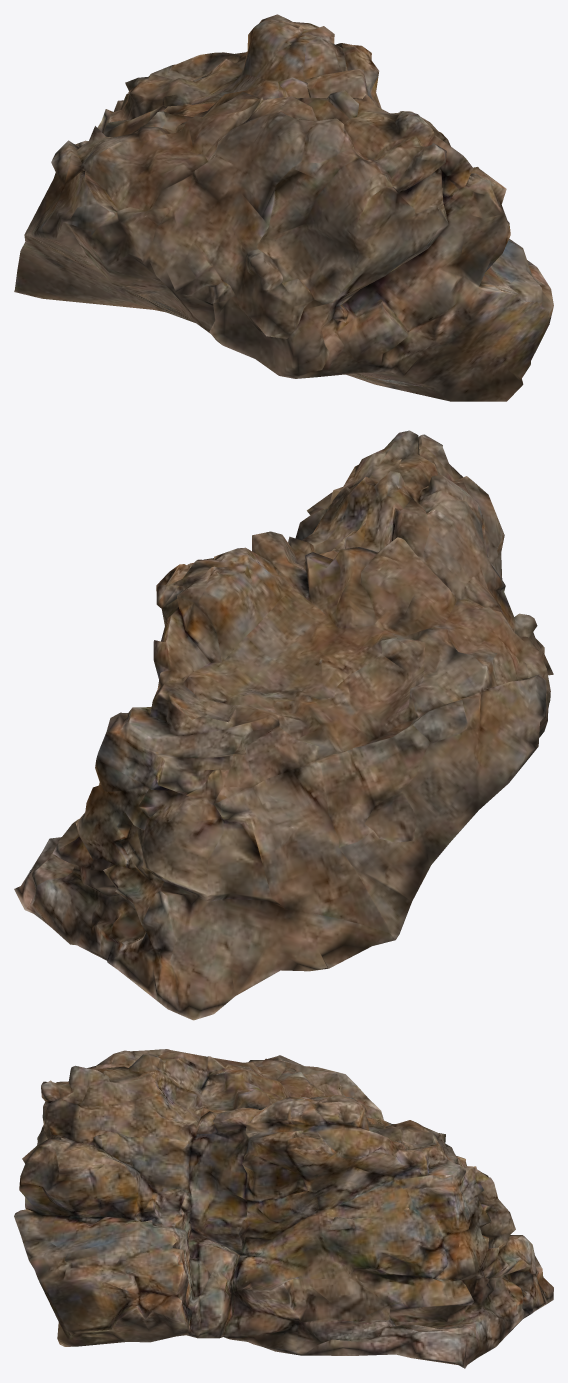
Rendered from boulder.glb.
3 views of the same model, one above another, from view 1: azimuth 30°, elevation 25°; view 2: azimuth 150°, elevation 25°; view 3: azimuth 270°, elevation 25° (orthographic). The views are drawn at different scales.
Parts seen in each view (by area): view 1: boulder_01; view 2: boulder_01; view 3: boulder_01.
Boxes of the visible parts, left/top/right/bottom form: boulder_01: left=14, top=14, right=553, bottom=401; boulder_01: left=14, top=430, right=553, bottom=1020; boulder_01: left=14, top=1049, right=553, bottom=1368.
Size of the model in its own units: 1.27 by 1 by 1.83.
1 material, 1 textured.
